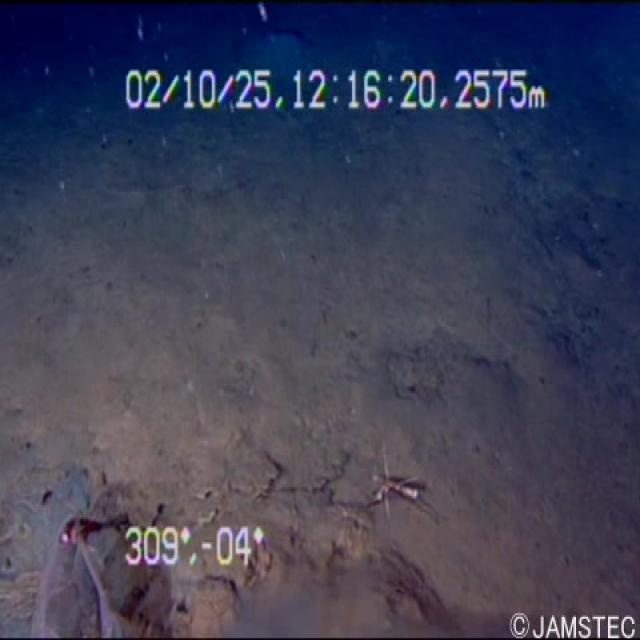plastic: (21, 494, 147, 638)
